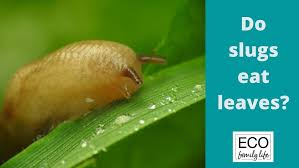slug: (1, 39, 164, 159)
